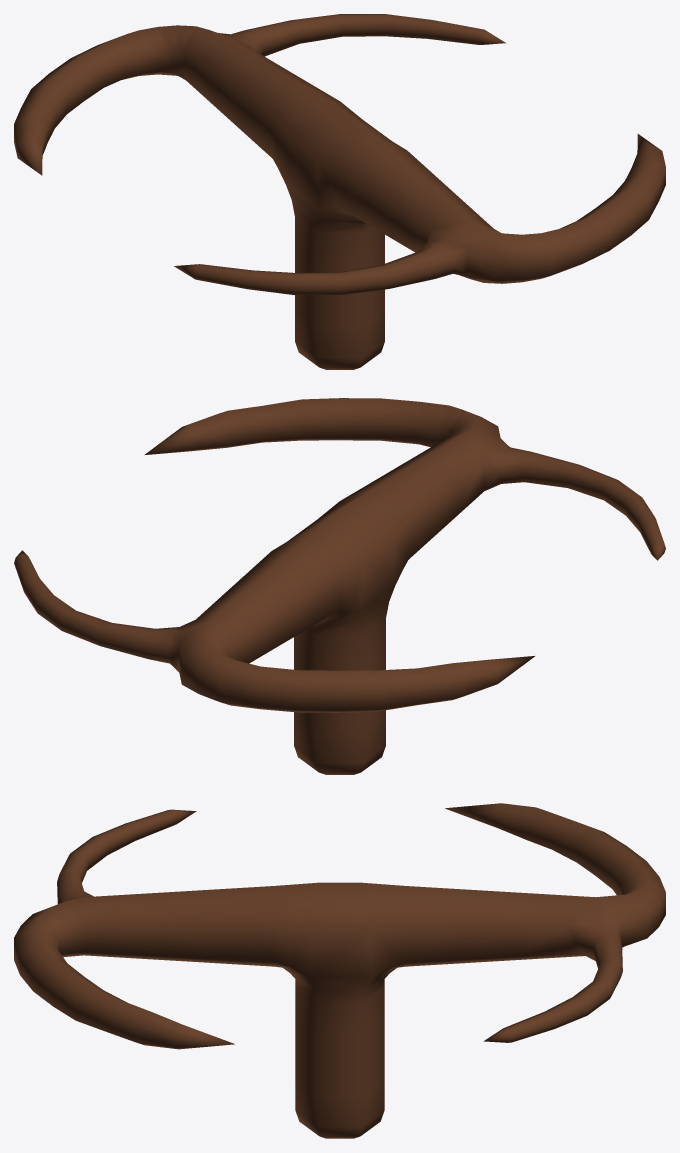
File: Valve.fbx
The picture shows the model from 3 angles, top to bottom: view 1: azimuth 30°, elevation 25°; view 2: azimuth 150°, elevation 25°; view 3: azimuth 270°, elevation 25°; orthographic projection. The views are drawn at different scales.
Visible parts, largest first — view 1: Valve; view 2: Valve; view 3: Valve.
Boxes of the visible parts, <box> form: Valve: <box>14,14,665,369</box>; Valve: <box>14,398,665,774</box>; Valve: <box>14,803,665,1138</box>.
Bounding box in the file's own units: 82.5 × 40.13 × 96.31.
